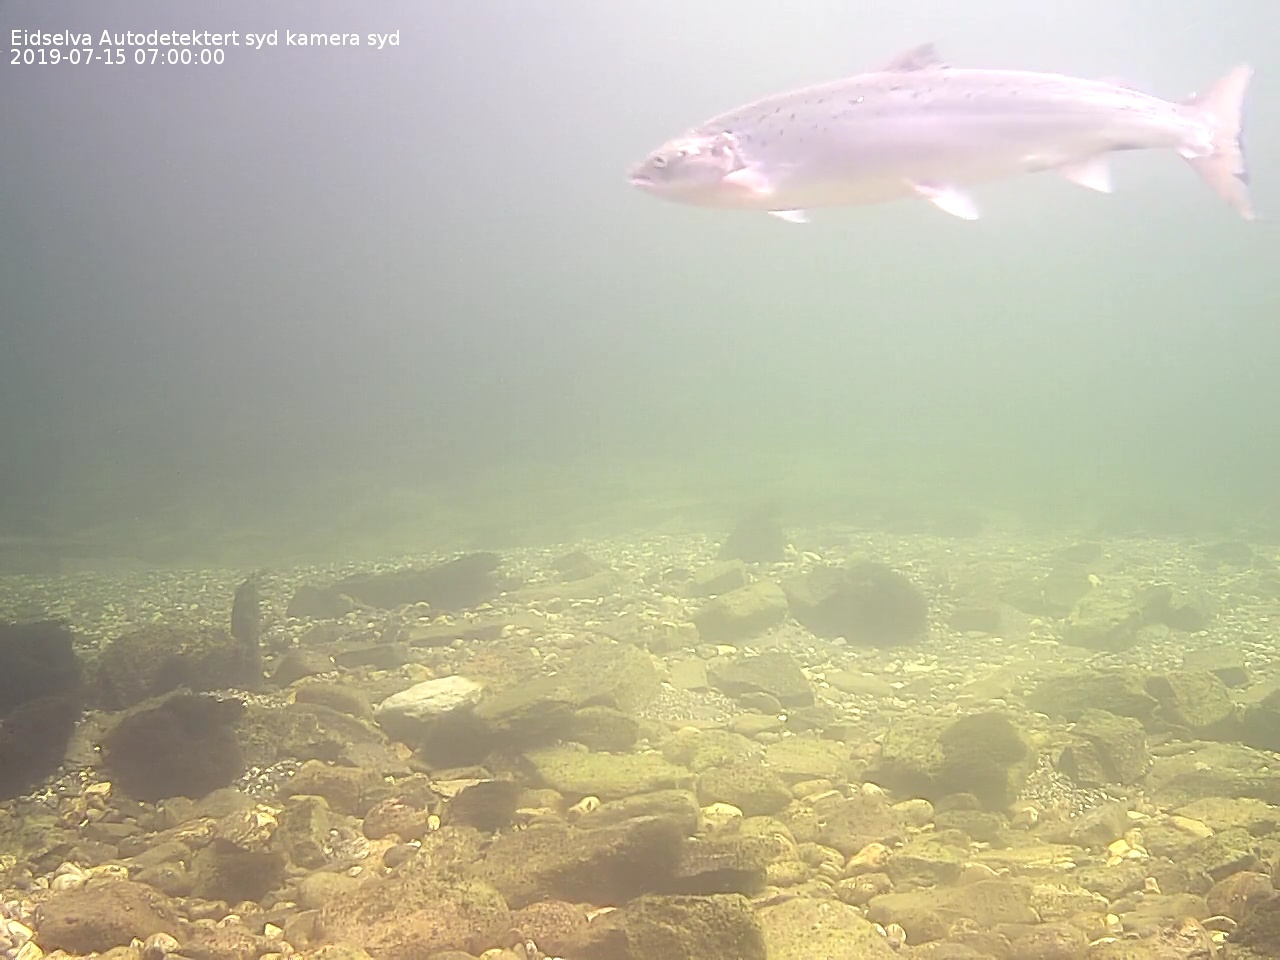salmon: (617, 34, 1265, 241)
